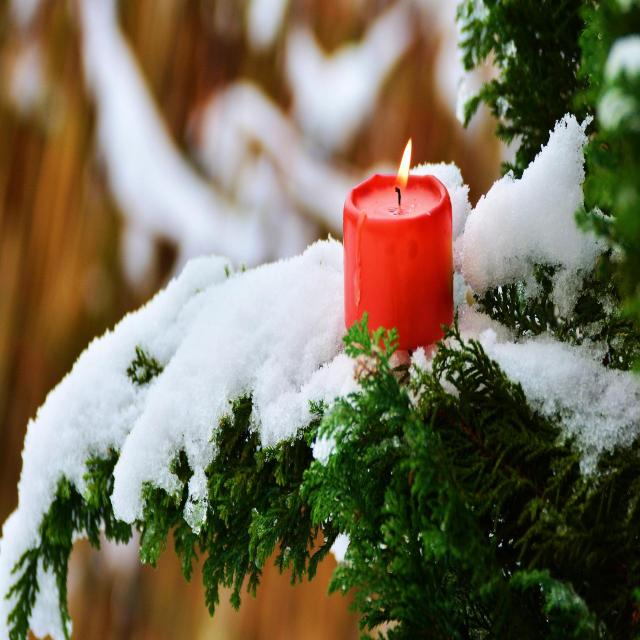Fire_Save: (342, 136, 454, 355)
